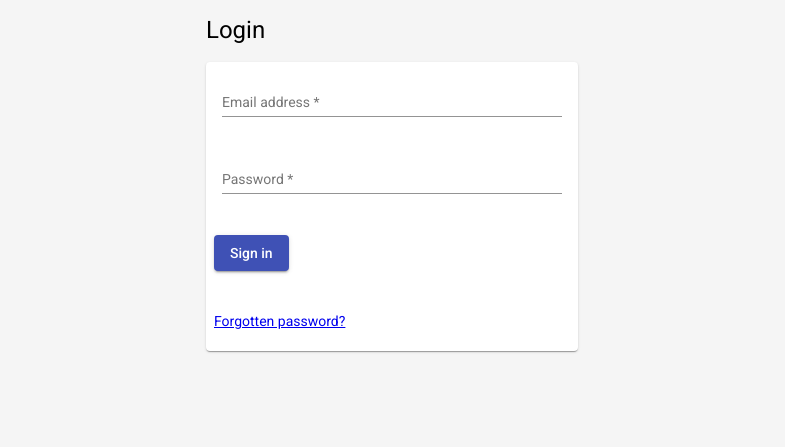
/login › As a user that's logged in, I should be redirected to the home page if I try to access the login page
The image size is (785, 447).
Type "test@carelinelive.com" into the field with test id "Email" at (392, 103), box top-left (222, 95), bottom-right (562, 111)
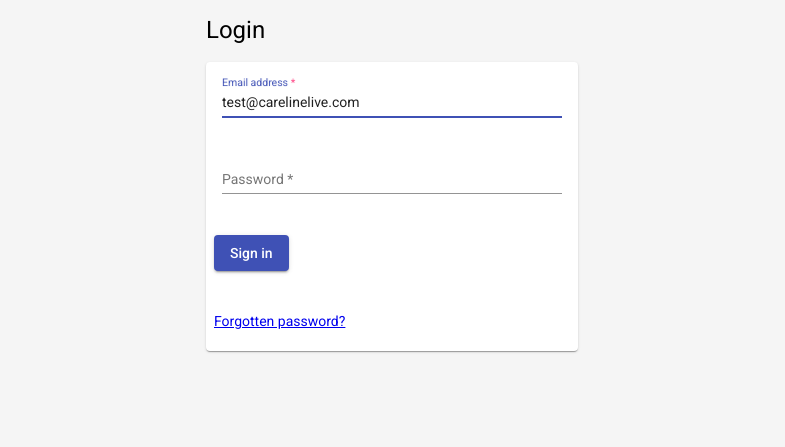
Type "password" into the password field with test id "Password" at (392, 180), box top-left (222, 172), bottom-right (562, 188)
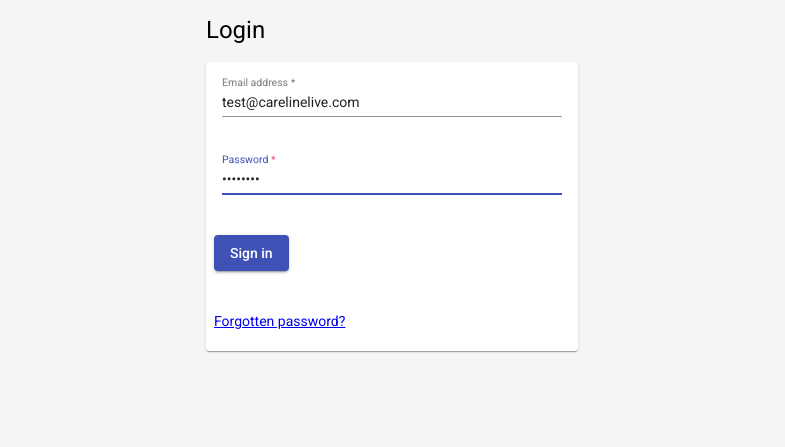
Click the button with test id "Submit" at (252, 253), box top-left (214, 235), bottom-right (289, 271)
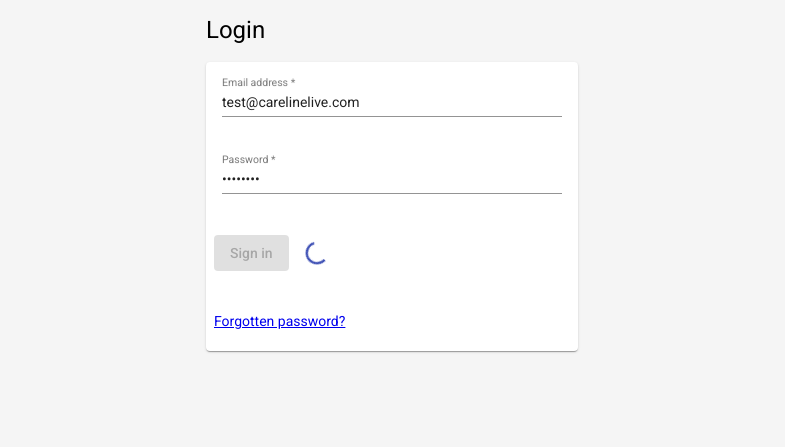
Open "http://localhost:4200/login"
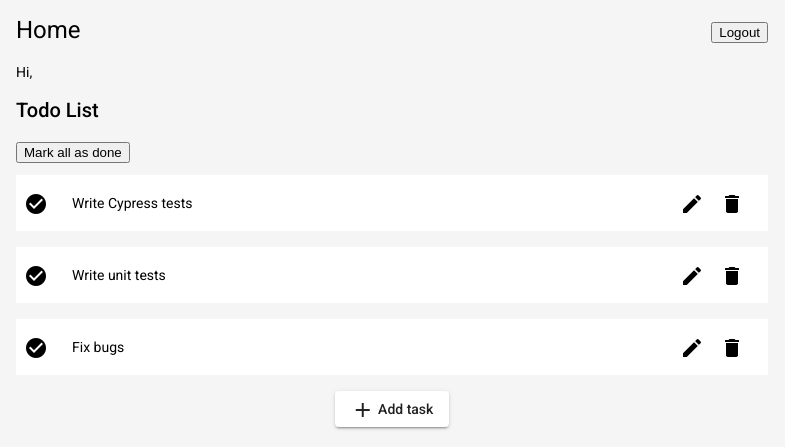
Now the header with test id "Home" is shown, box top-left (16, 16), bottom-right (768, 44)
